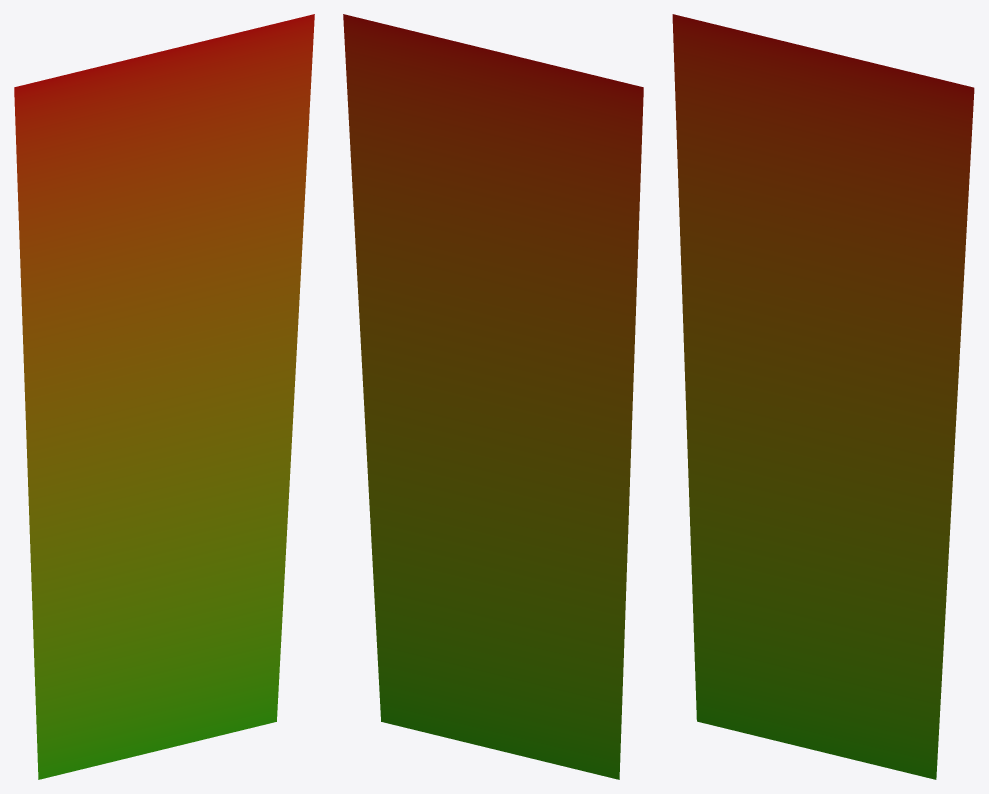
Rendered from Spotted Laurel_LOD3_Var3_sfDik.fbx.
3 views of the same model, side by side, from view 1: azimuth 30°, elevation 25°; view 2: azimuth 150°, elevation 25°; view 3: azimuth 330°, elevation 25° (orthographic).
Parts seen in each view (by area): view 1: _3996_Var3_LOD3; view 2: _3996_Var3_LOD3; view 3: _3996_Var3_LOD3.
Boxes of the visible parts, box(x1,y1,x2,y2) form: _3996_Var3_LOD3: box(14, 14, 314, 779); _3996_Var3_LOD3: box(343, 14, 643, 779); _3996_Var3_LOD3: box(672, 14, 974, 779).
Bounding box in the file's own units: 33.68 × 74.76 × 1.96e-05.
